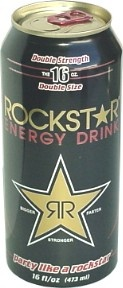grozi_113: (0, 0, 123, 288)
